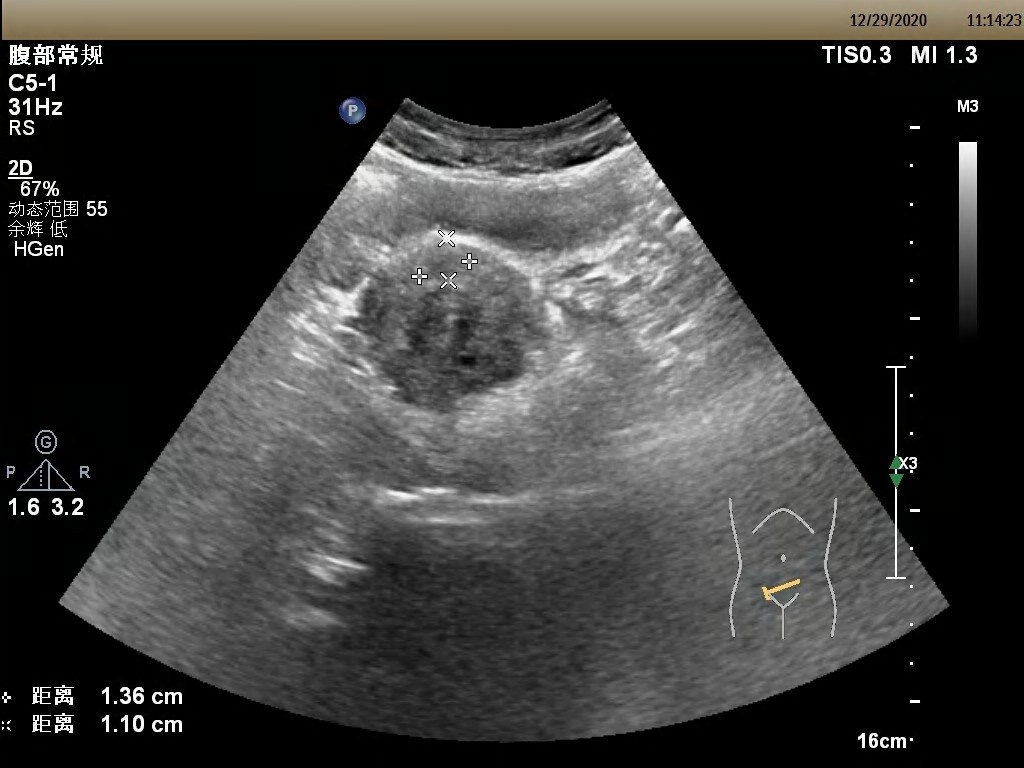肌瘤: (418, 242, 468, 280)
